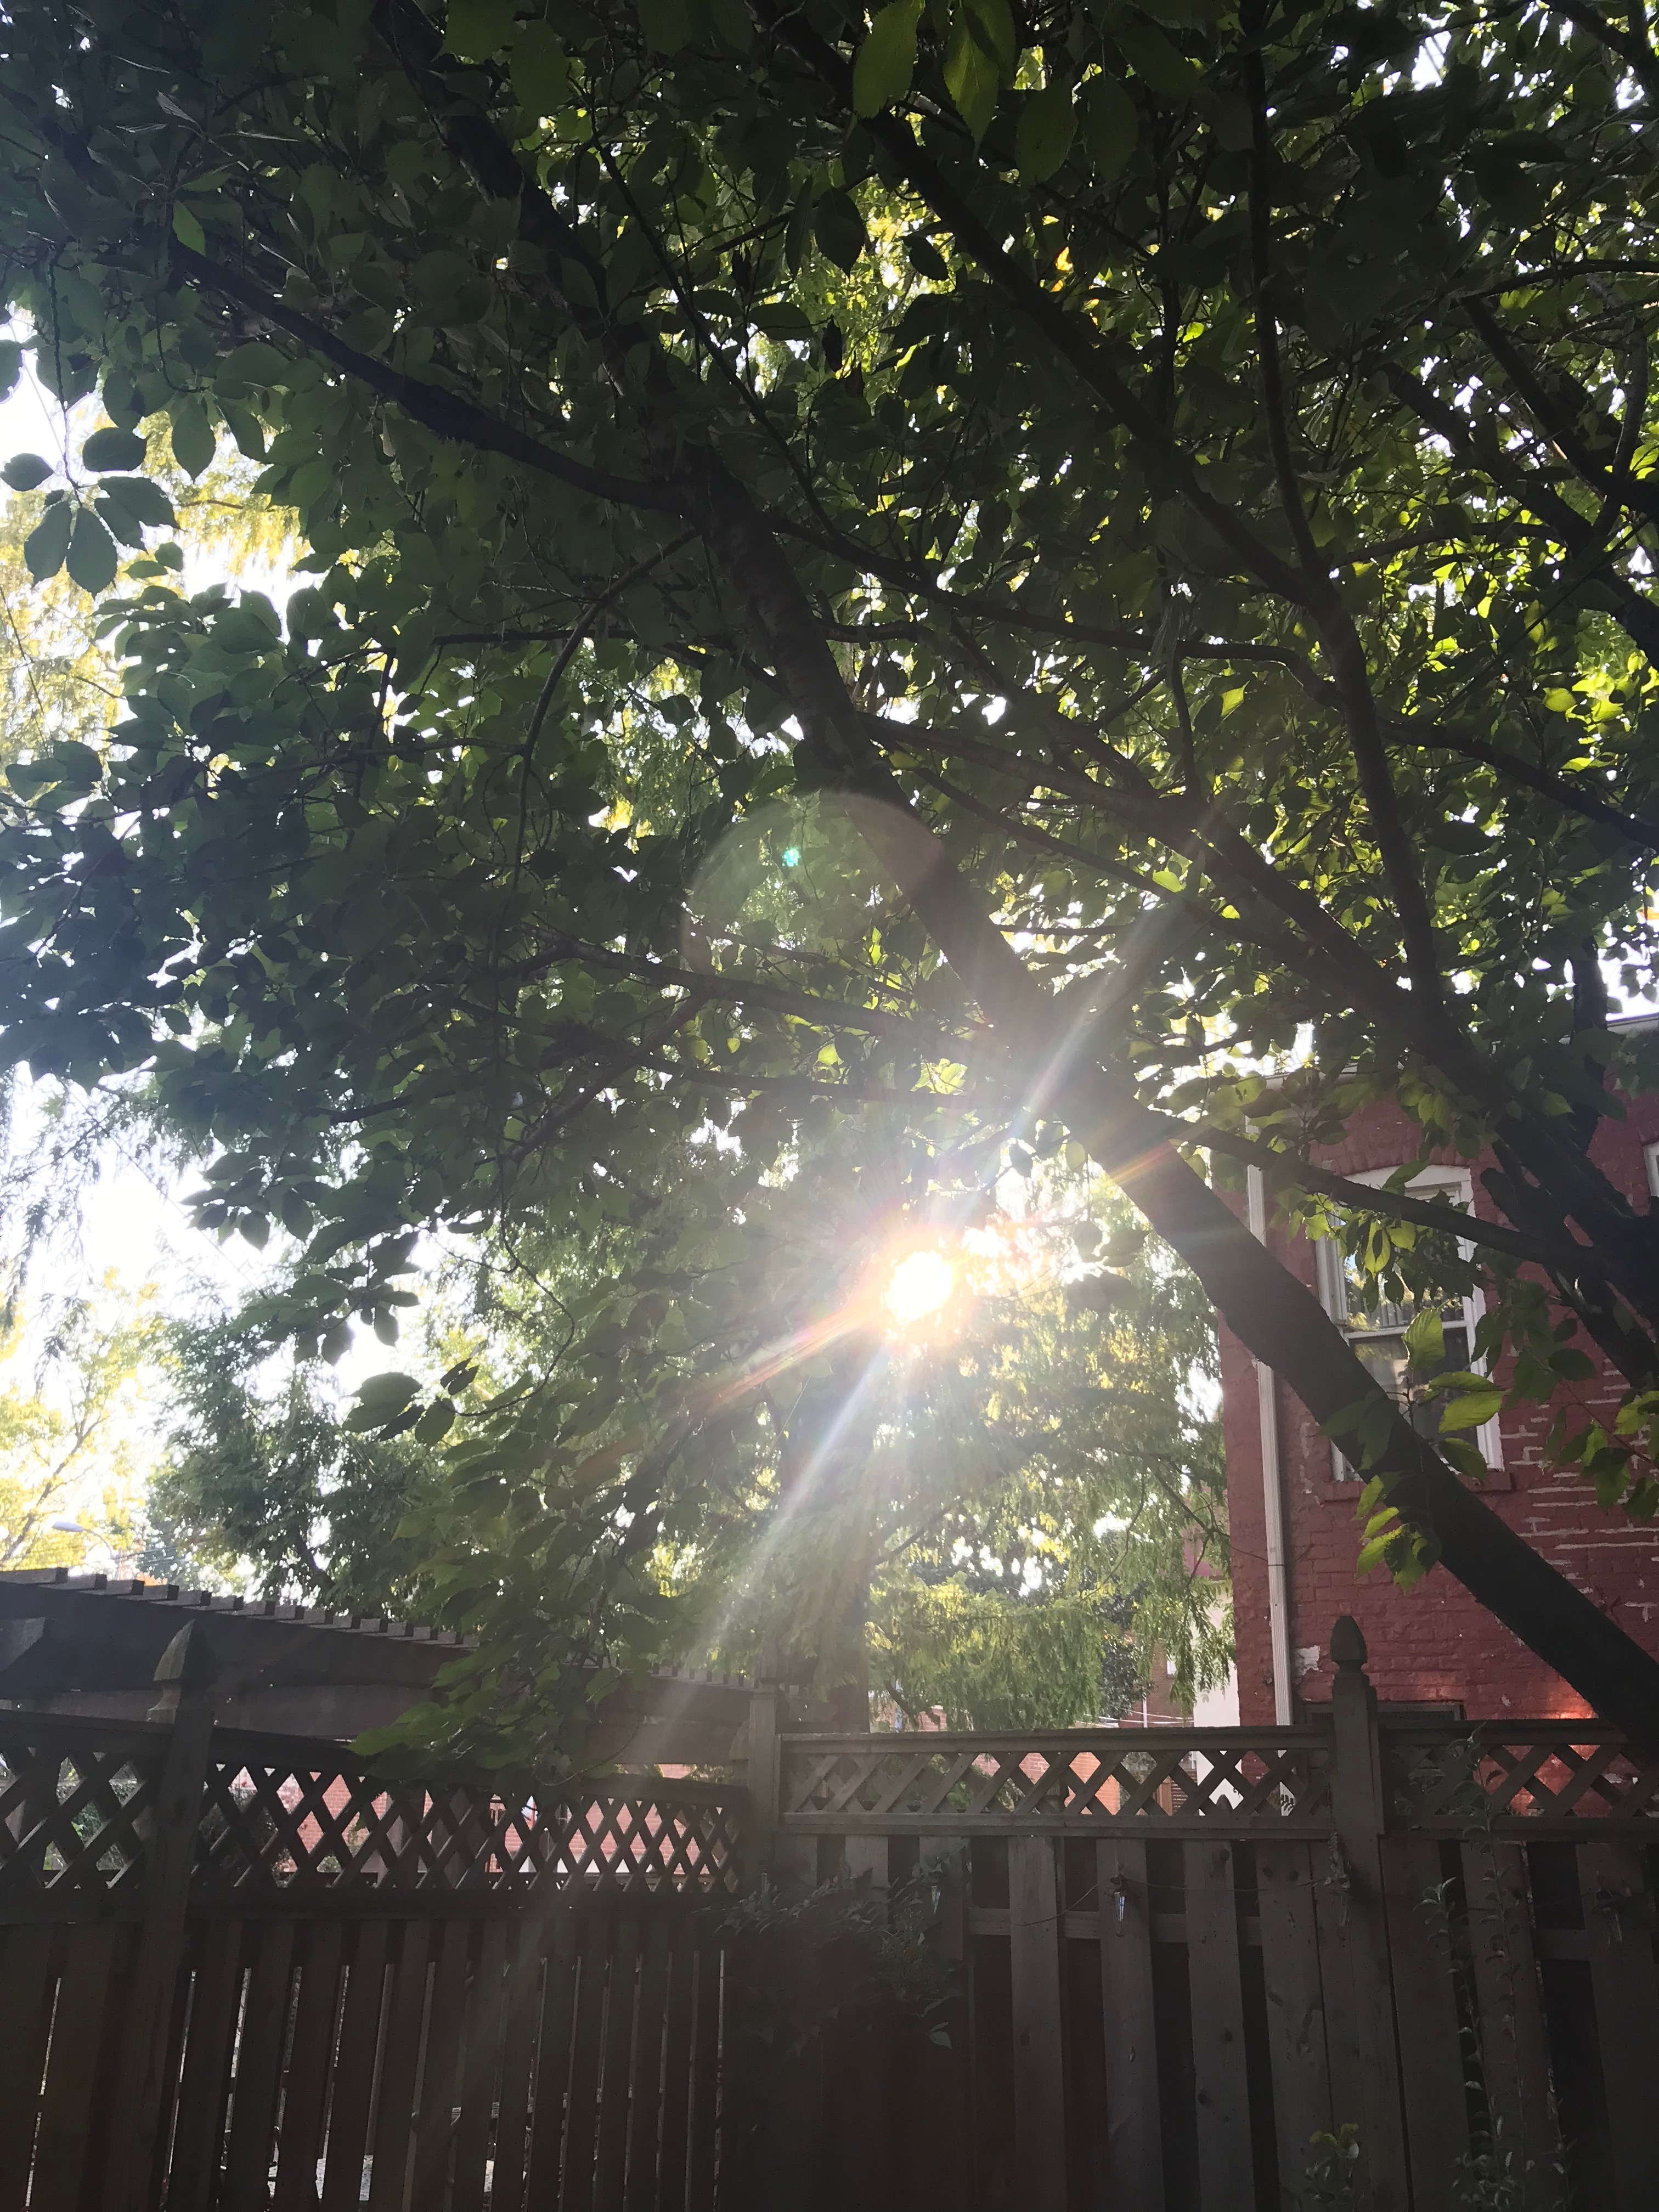flare: (781, 845, 803, 867)
